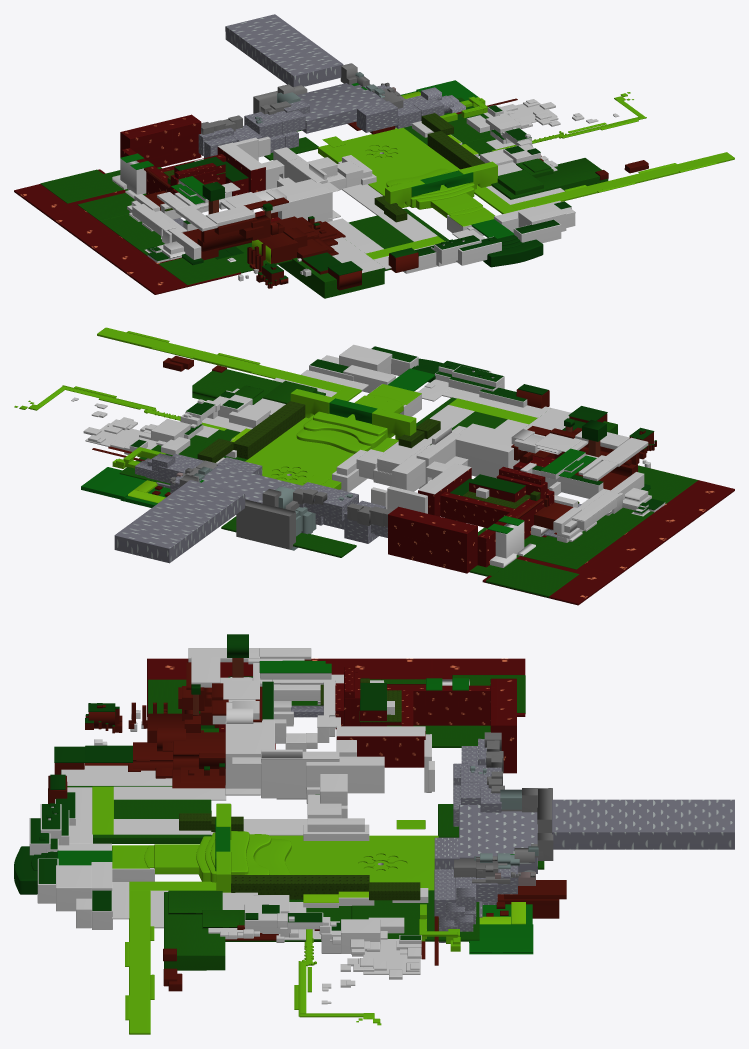
The model's file is LevelMainPlazaNoCollidersCombinedFinal.fbx.
3 views of the same model, one above another, from view 1: azimuth 30°, elevation 25°; view 2: azimuth 150°, elevation 25°; view 3: azimuth 270°, elevation 25° (orthographic). The views are drawn at different scales.
Visible parts, largest first — view 1: Block29049; view 2: Block29049; view 3: Block29049.
Part boxes in pixels (<box>): Block29049: <box>14,14,734,298</box>; Block29049: <box>14,327,734,605</box>; Block29049: <box>14,634,734,1034</box>.
Size of the model in its own units: 463 by 58.09 by 377.
